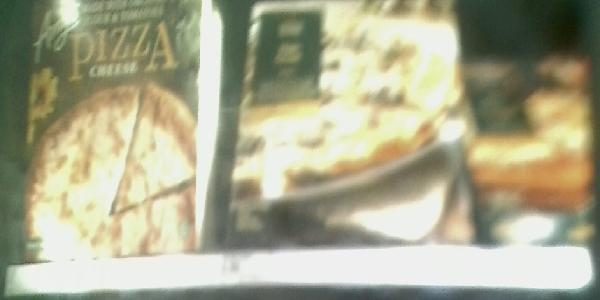pizza1: (223, 1, 481, 246), (18, 1, 203, 262)
